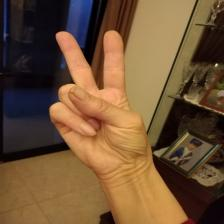two: (51, 29, 146, 169)
